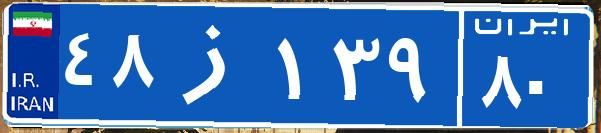0: (525, 38, 570, 115)
1: (273, 28, 330, 110)
3: (330, 28, 385, 110)
4: (57, 26, 110, 107)
8: (475, 38, 525, 113), (110, 28, 158, 105)
9: (385, 28, 445, 110)
ز: (158, 15, 273, 115)
